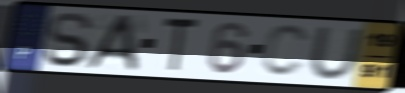6: (205, 20, 252, 76)
A: (83, 14, 141, 72)
C: (259, 23, 312, 79)
S: (40, 10, 96, 69)
T: (162, 15, 202, 75)
U: (307, 26, 366, 81)
